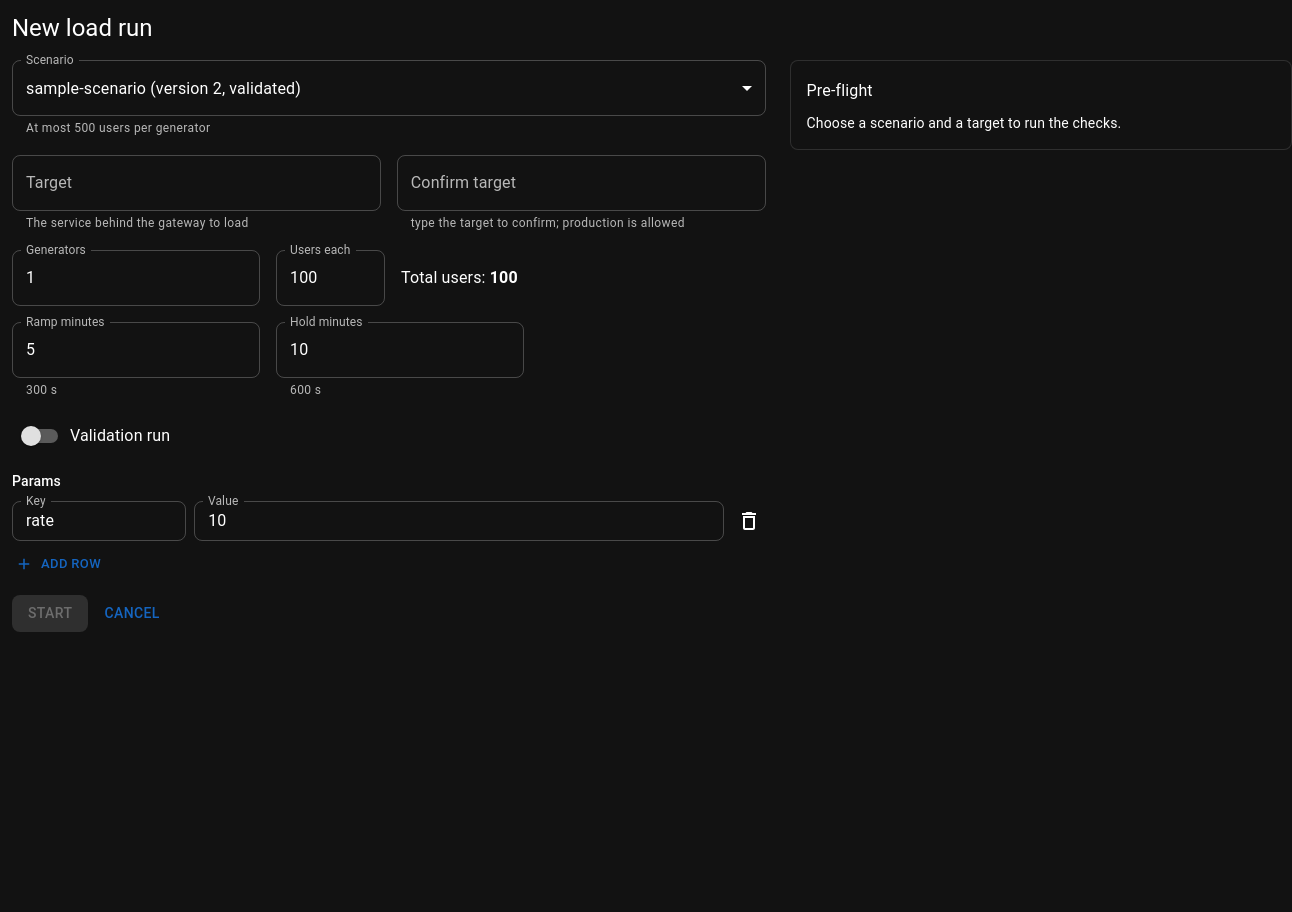
Test: LoadRunFormPage › locks the size fields while the validation switch is on
Replace the text in the number field labelled "Generators" with "4" at (136, 278), box [12,250,260,306]
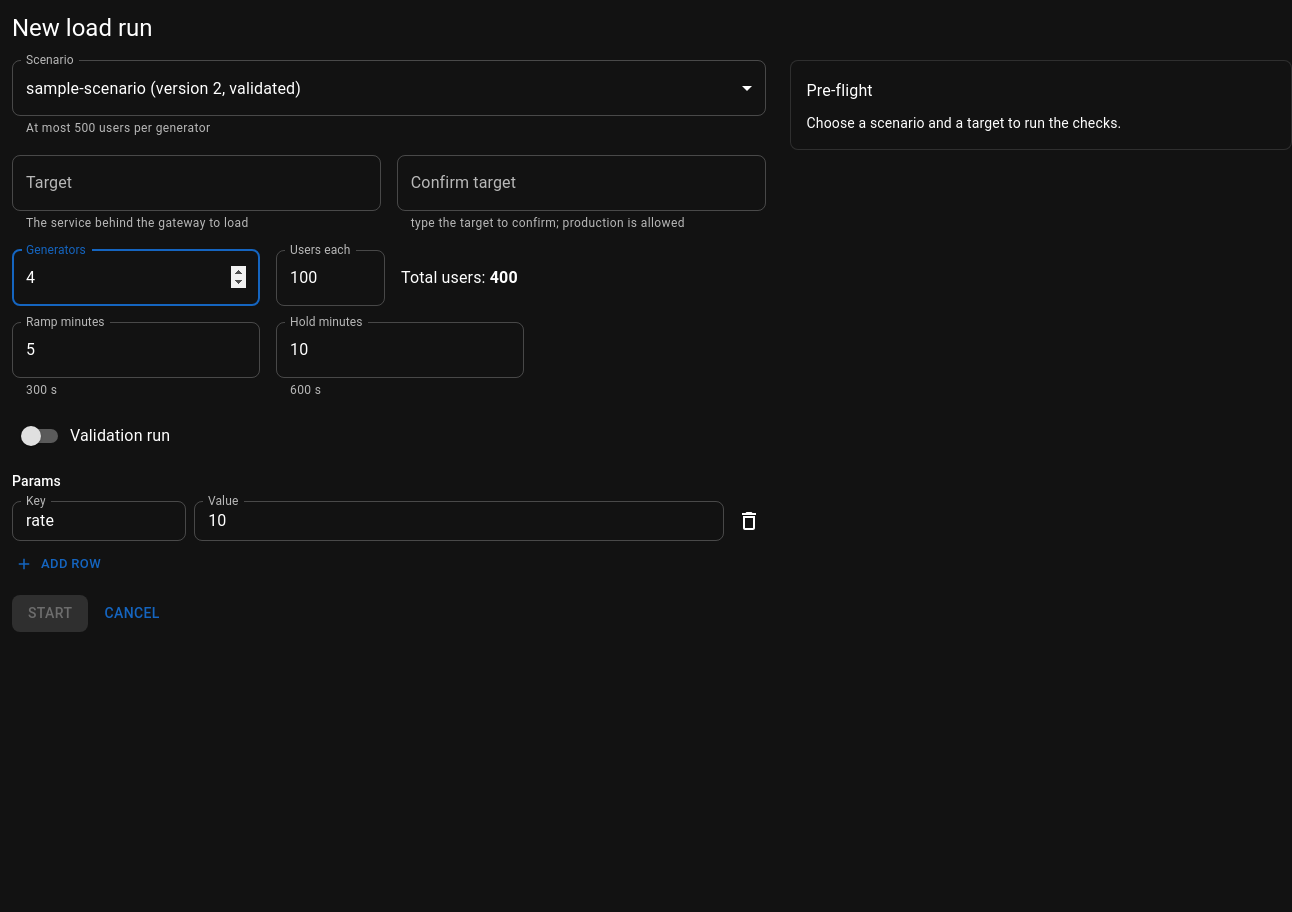
Click the switch labelled "Validation run".
click(96, 436)  # box [21,426,170,446]
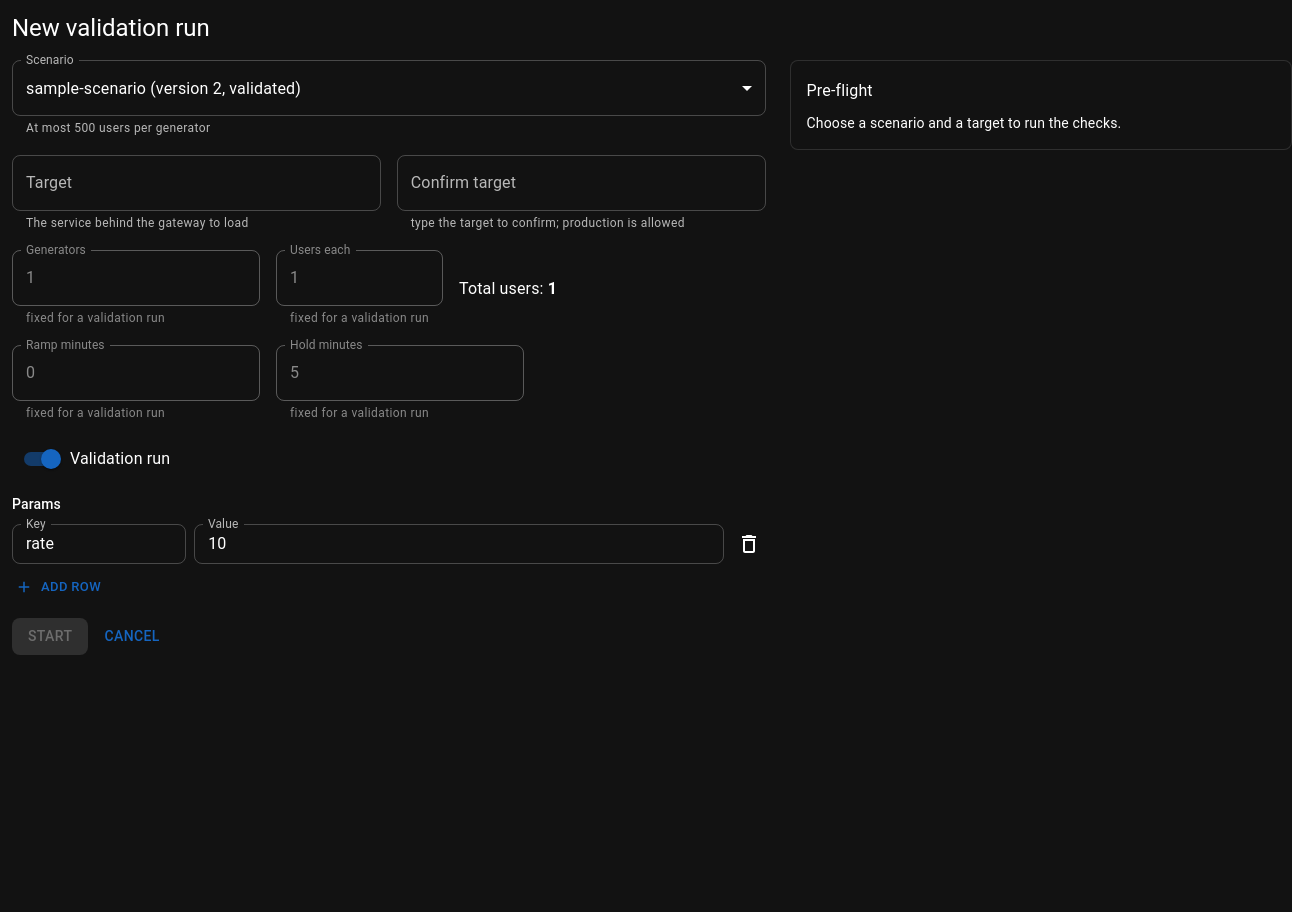
Result: the heading "New validation run" is shown at [12,14,210,42]
Result: the number field labelled "Generators" is disabled at [12,250,260,306]
Result: the number field labelled "Generators" holds "1" at [12,250,260,306]
Click the switch labelled "Validation run".
click(97, 459)  # box [24,449,170,469]
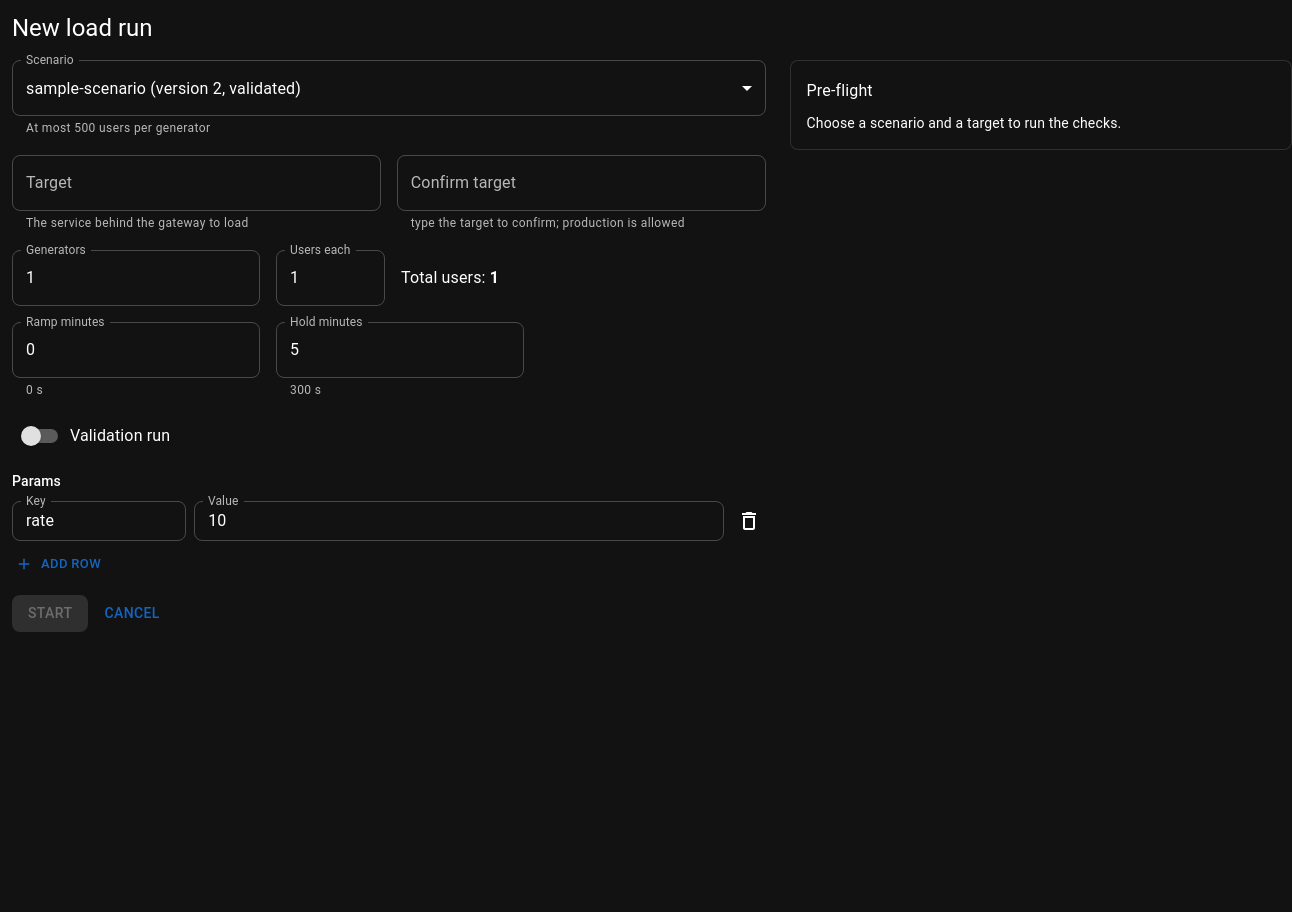
Result: the number field labelled "Generators" is enabled at [12,250,260,306]
Result: the heading "New load run" is shown at [12,14,152,42]
